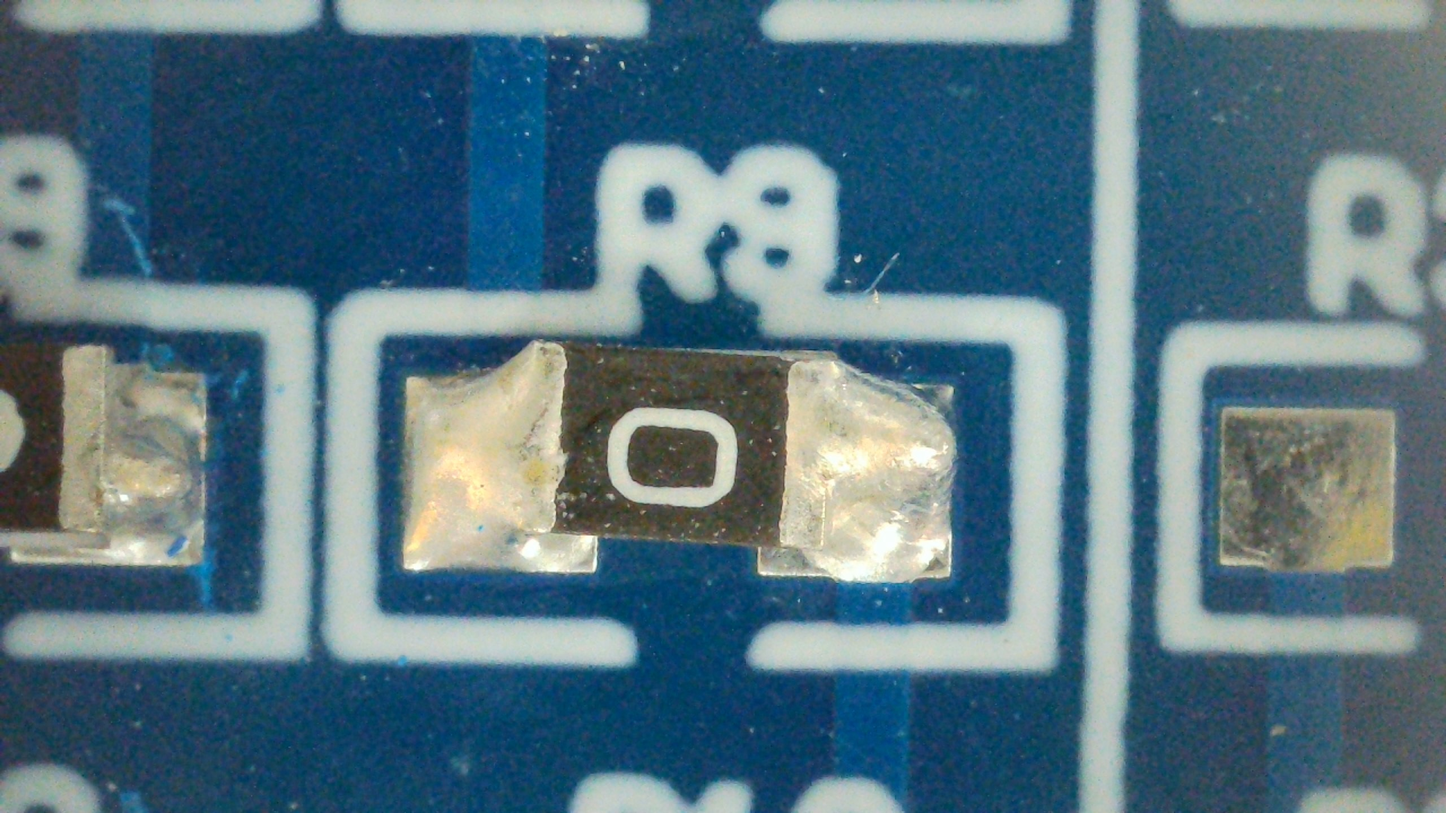NG: (403, 342, 958, 582)
